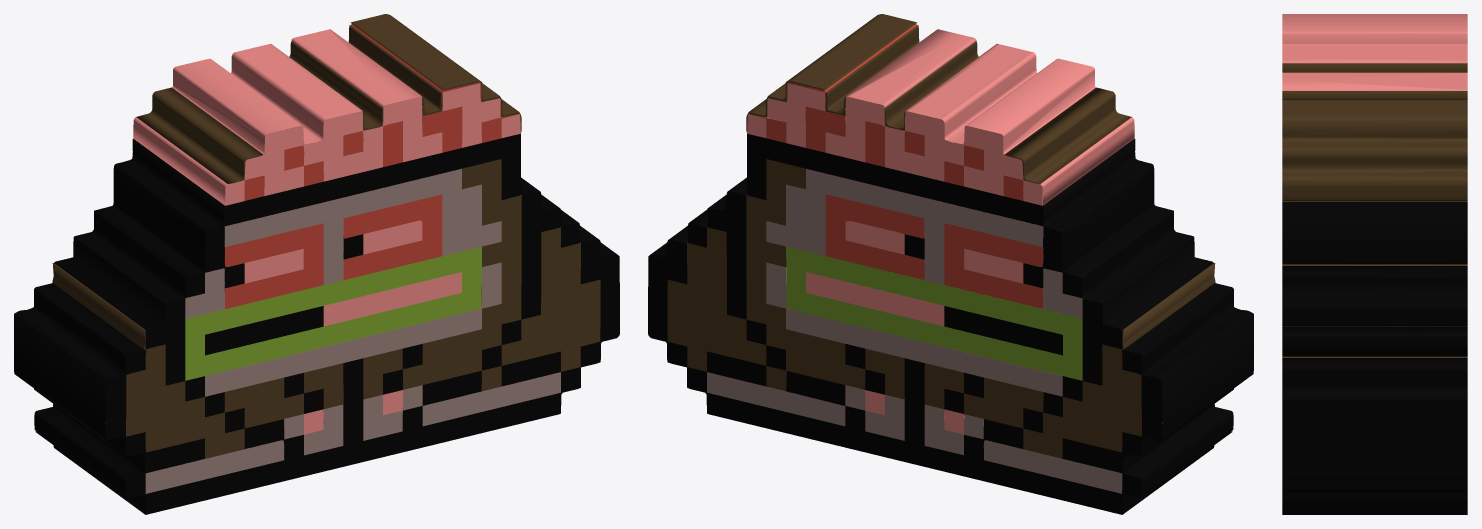
The model's file is Toadz_5046.glb.
3 renders of one model, left to right at view 1: azimuth 30°, elevation 25°; view 2: azimuth 150°, elevation 25°; view 3: azimuth 270°, elevation 25°, orthographic.
Parts seen in each view (by area): view 1: Curve; view 2: Curve; view 3: Curve.
Boxes of the visible parts, x1,y1,x2,y2 form: Curve: [14, 14, 619, 514]; Curve: [648, 14, 1253, 514]; Curve: [1282, 14, 1467, 514].
Bounding box in the file's own units: 3.24 × 2.13 × 1.
